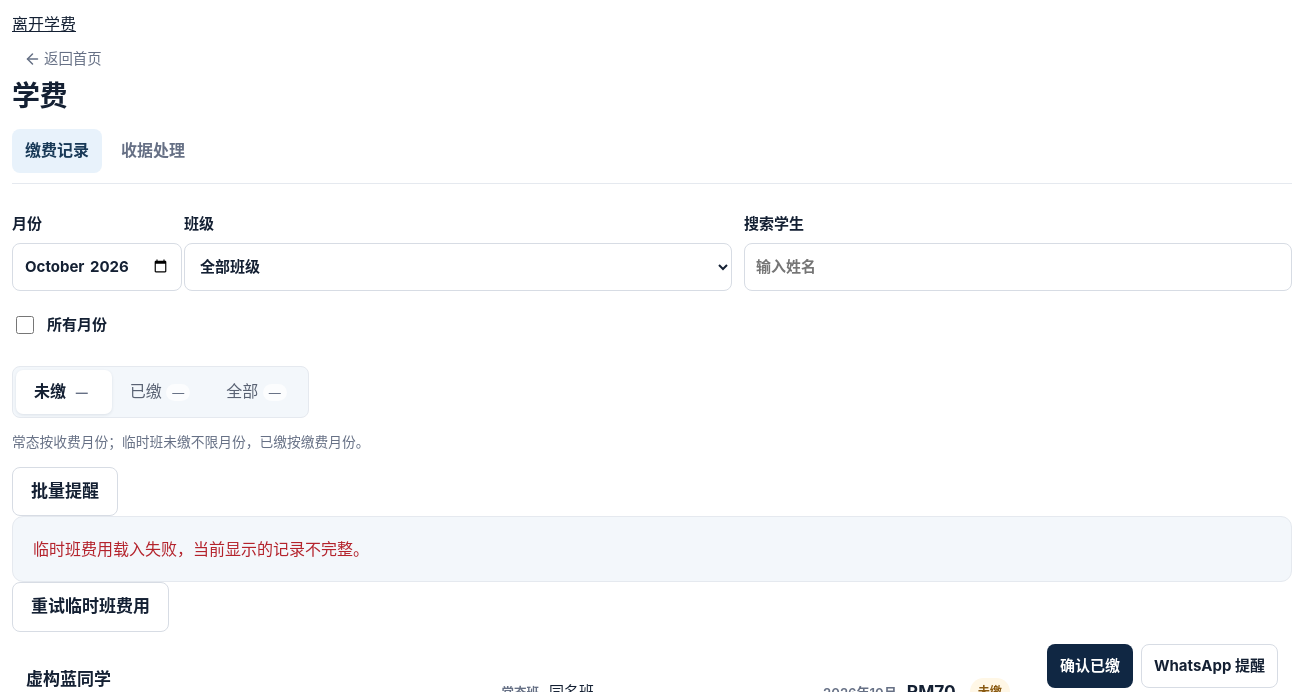
Test case: failed source is explicit, counts are unknown, partial records remain and retry recovers
The width and height of the screenshot is (1304, 692).
expect the text "临时班费用载入失败，当前显示的记录不完整。" is shown: met, box left=12, top=516, right=1292, bottom=582
expect the text "虚构蓝同学" is shown: met, box left=26, top=669, right=111, bottom=689
Click the button "重试临时班费用" at (90, 607), box left=12, top=582, right=169, bottom=632
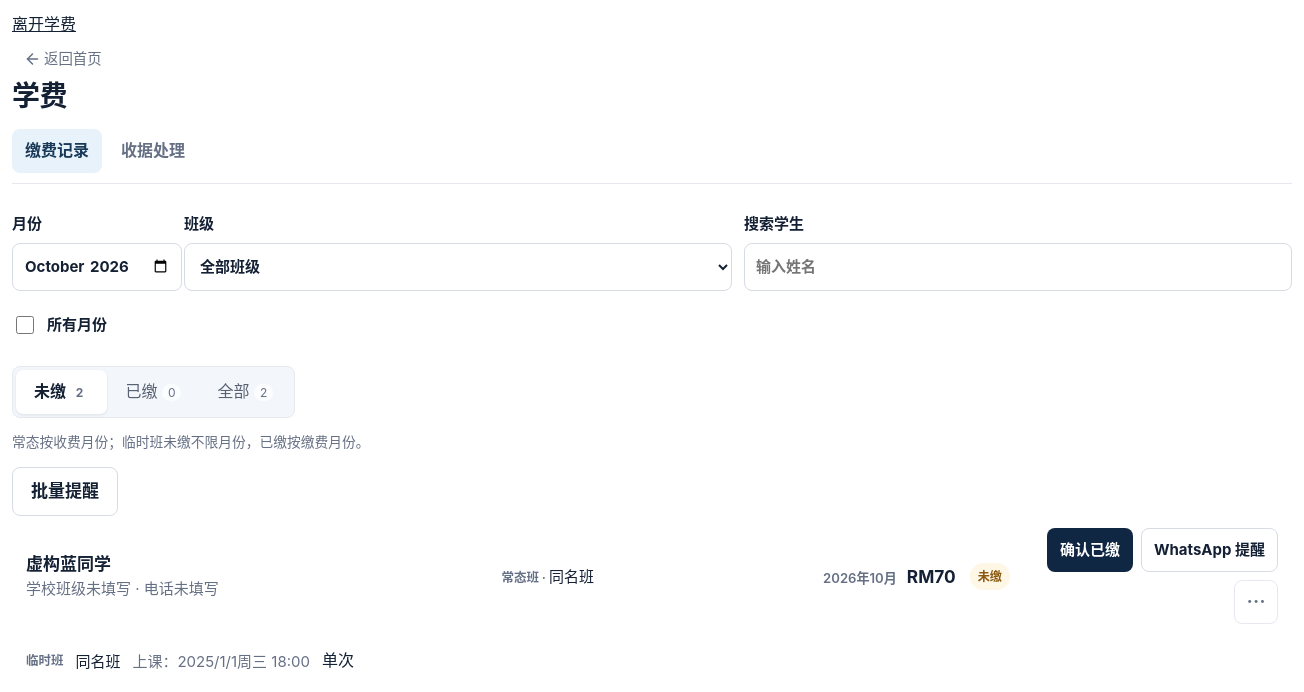
expect the text "单次" is shown: met, box left=322, top=648, right=354, bottom=674
expect the button "未缴 2" is shown: met, box left=16, top=370, right=107, bottom=414
